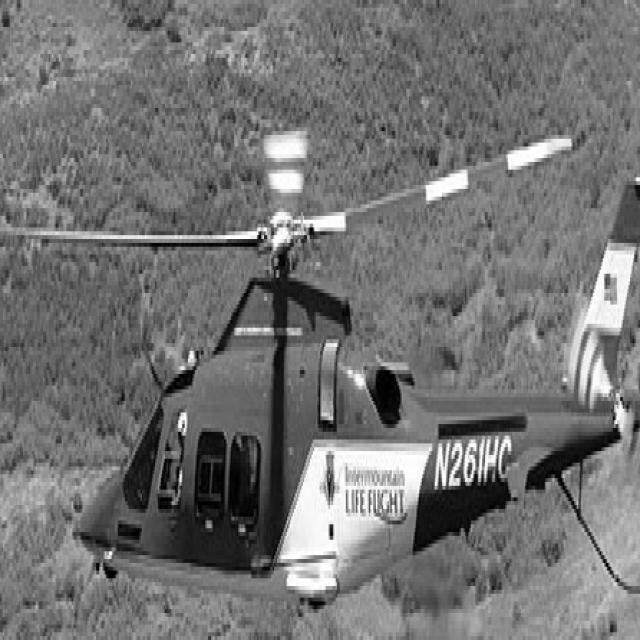helicopter: (12, 121, 640, 595)
